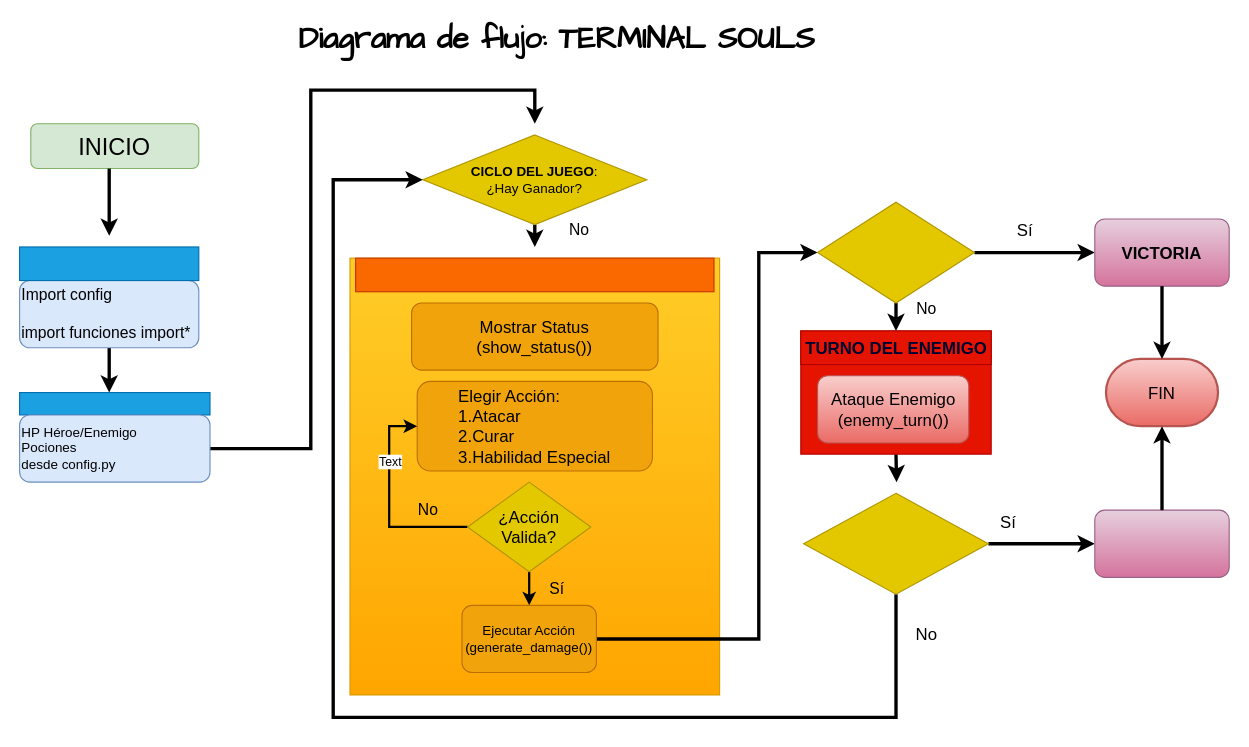
Some shapes in this 1249 by 747 pixel diagram are drawn without their labels. The centre of each missing label's shape, as x and y in pixels:
"cargar modulos" goes at point 108,263.
"DERROTA" goes at point 1161,543.
"Inicializar variables" goes at point 114,403.
"TURNO DEL JUGADOR" goes at point 534,274.
"¿Murió el enemigo?" goes at point 895,252.
"¿Murió el Héroe?" goes at point 895,543.
